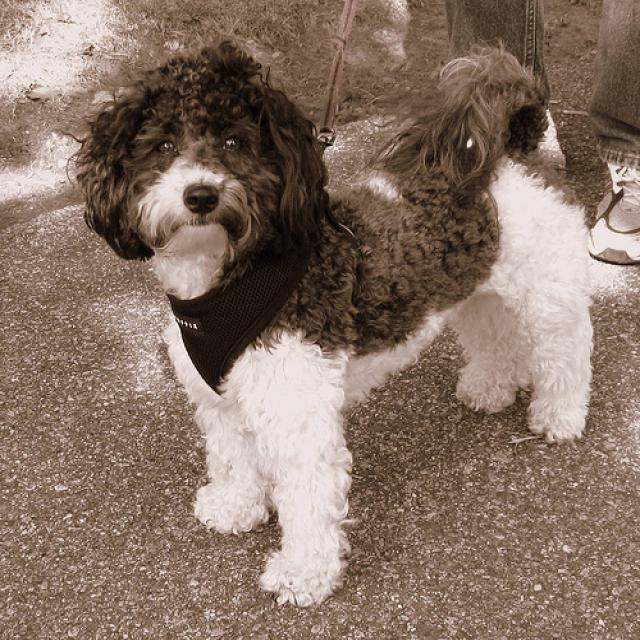dog-havanese: (68, 39, 604, 611)
